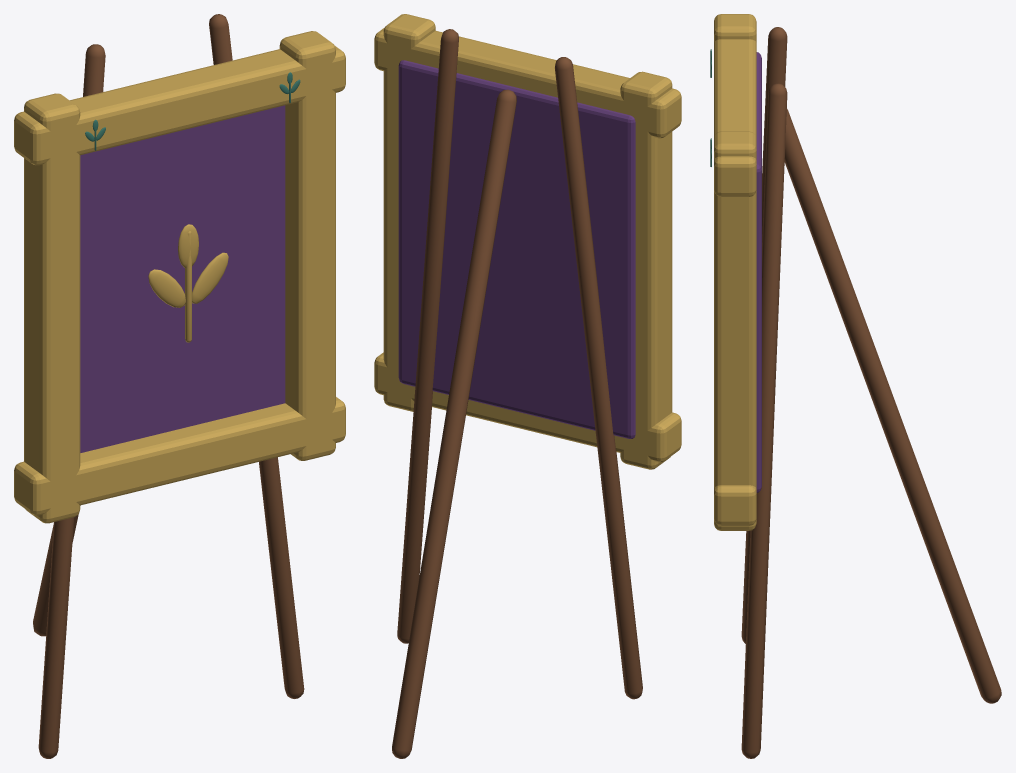
Rendered from gallery_easel.glb.
The picture shows the model from 3 angles, left to right: view 1: azimuth 30°, elevation 25°; view 2: azimuth 150°, elevation 25°; view 3: azimuth 270°, elevation 25°; orthographic projection. The views are drawn at different scales.
Visible parts, largest first — view 1: Canvas, Carved_frame_stile, Carved_frame_stile.001, Carved_frame_rail.001, Carved_frame_rail, Leg, Leg.001, Rear_leg, Botanical_leaf.005, Botanical_leaf.004, Botanical_tip.002, Botanical_stem.002; view 2: Canvas, Rear_leg, Carved_frame_stile, Leg, Leg.001, Carved_frame_rail.001, Carved_frame_stile.001, Carved_frame_rail; view 3: Carved_frame_stile.001, Rear_leg, Leg.001, Carved_frame_rail.001, Canvas, Leg, Carved_frame_rail, Carved_frame_stile.
Boxes of the visible parts, x1,y1,x2,y2 form: Canvas: (80,105,285,452); Carved_frame_stile: (24,93,80,523); Carved_frame_stile.001: (279,31,335,460); Carved_frame_rail.001: (14,46,345,165); Carved_frame_rail: (14,397,345,515); Leg: (38,44,105,758); Leg.001: (209,14,304,698); Rear_leg: (33,505,80,636); Botanical_leaf.005: (192,252,228,303); Botanical_leaf.004: (148,269,185,307); Botanical_tip.002: (178,224,198,267); Botanical_stem.002: (185,231,191,342); Canvas: (398,60,635,438); Rear_leg: (392,89,516,758); Carved_frame_stile: (620,71,672,469); Leg: (555,57,642,699); Leg.001: (397,29,458,643); Carved_frame_rail.001: (374,28,681,138); Carved_frame_stile.001: (383,14,435,411); Carved_frame_rail: (374,352,681,462); Carved_frame_stile.001: (714,131,756,530); Rear_leg: (784,108,1001,703); Leg.001: (741,83,787,758); Carved_frame_rail.001: (714,39,756,196); Canvas: (756,52,761,492); Leg: (741,27,787,643); Carved_frame_rail: (714,485,756,525); Carved_frame_stile: (714,14,756,42).
Bounding box in the file's own units: 0.64 × 1.34 × 0.5462.
